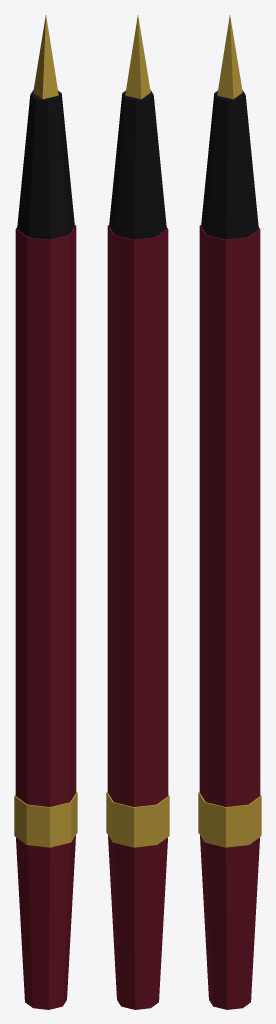
Rendered from Tool_FountainPen.fbx.
The picture shows the model from 3 angles, left to right: view 1: azimuth 30°, elevation 25°; view 2: azimuth 150°, elevation 25°; view 3: azimuth 330°, elevation 25°; orthographic projection.
Parts seen in each view (by area): view 1: Tool_FountainPen; view 2: Tool_FountainPen; view 3: Tool_FountainPen.
Part boxes in pixels (x1,y1,x2,y2): Tool_FountainPen: [14, 15, 77, 1009]; Tool_FountainPen: [106, 15, 169, 1009]; Tool_FountainPen: [198, 15, 261, 1009].
Size of the model in its own units: 0.0798 by 1.48 by 0.0798.
